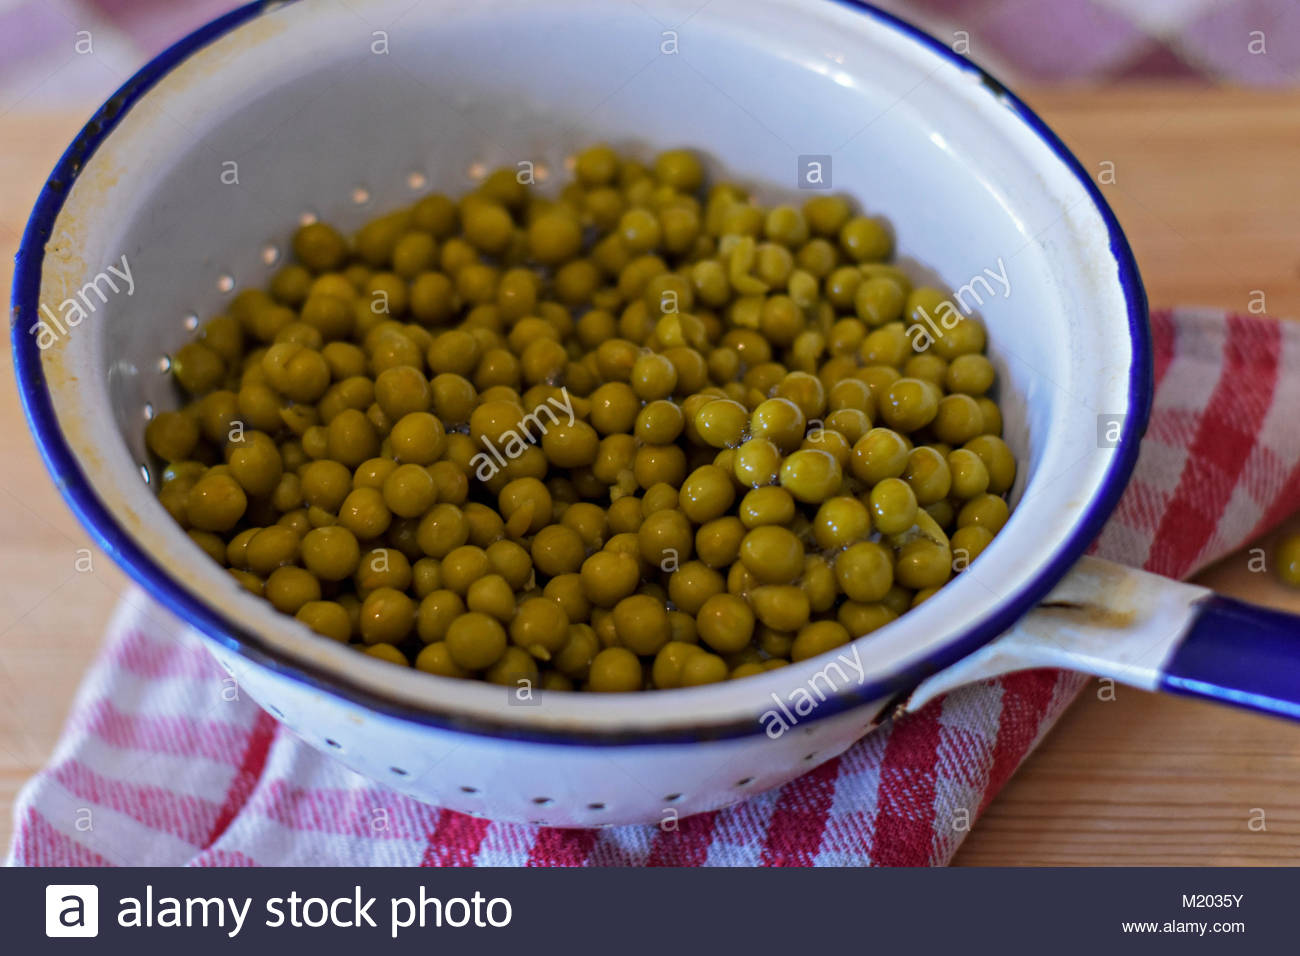boiled peas: (216, 205, 964, 684)
